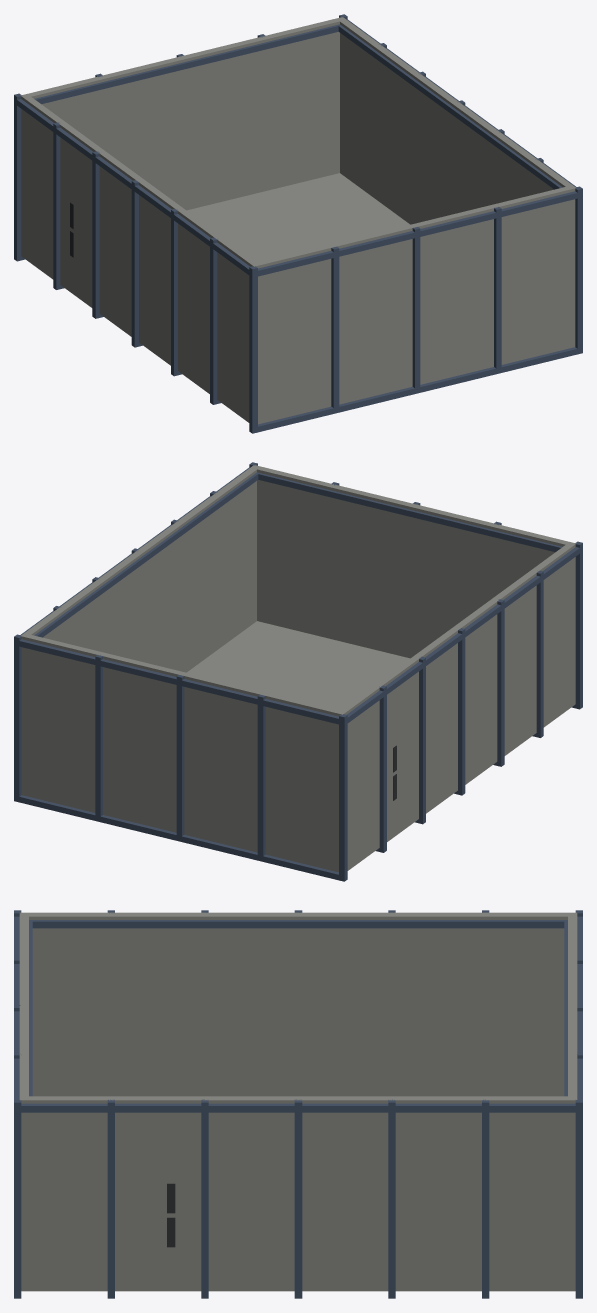
File: ak1_frame.obj
The picture shows the model from 3 angles, top to bottom: view 1: azimuth 30°, elevation 25°; view 2: azimuth 150°, elevation 25°; view 3: azimuth 270°, elevation 25°; orthographic projection. The views are drawn at different scales.
Visible parts, largest first — view 1: ak1_frame; view 2: ak1_frame; view 3: ak1_frame.
Part boxes in pixels (<box>): ak1_frame: <box>14,14,582,433</box>; ak1_frame: <box>14,462,582,881</box>; ak1_frame: <box>14,910,582,1298</box>.
Size of the model in its own units: 4.87 by 2.31 by 6.08.
